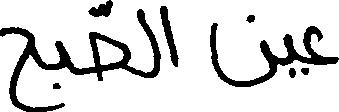X: (211, 10, 275, 91), (91, 0, 129, 85), (0, 22, 33, 111), (303, 21, 338, 79), (138, 4, 157, 82), (161, 1, 177, 71), (56, 36, 68, 111), (284, 29, 294, 82)
